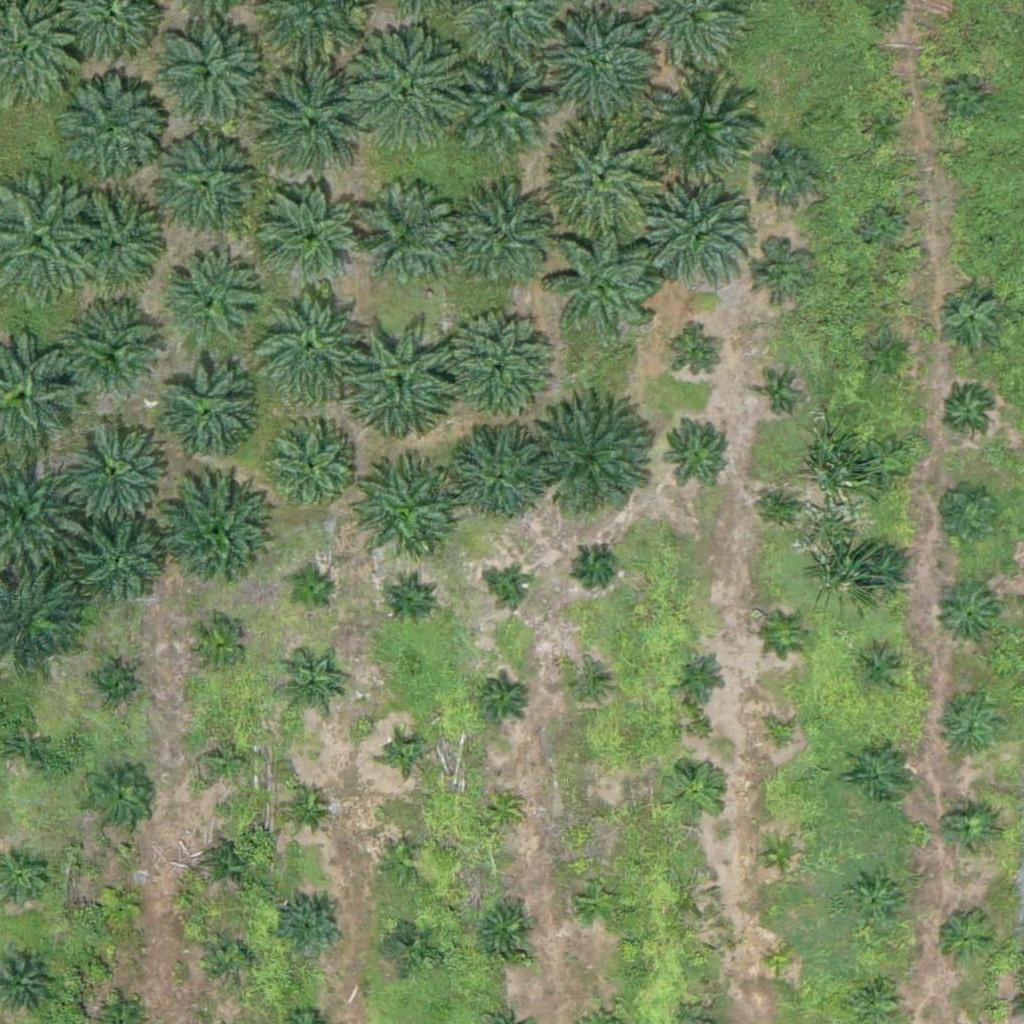Kelapa_Sawit: (44, 67, 169, 193), (146, 17, 271, 143), (251, 63, 376, 189), (534, 10, 659, 136), (646, 78, 771, 204), (340, 317, 465, 443), (248, 283, 373, 409), (347, 30, 472, 155), (536, 398, 661, 523), (157, 479, 270, 593), (548, 225, 661, 338), (437, 311, 550, 424), (58, 409, 170, 523), (645, 185, 757, 298), (549, 120, 661, 233), (346, 461, 458, 574), (447, 422, 547, 523), (453, 187, 553, 288), (352, 186, 452, 287), (262, 189, 362, 290), (261, 416, 361, 517), (150, 136, 250, 237), (162, 252, 262, 353), (64, 185, 164, 286), (154, 361, 254, 461), (67, 300, 167, 400), (76, 520, 164, 608), (457, 69, 544, 158), (928, 478, 1003, 554), (660, 414, 735, 489), (932, 906, 995, 969), (937, 699, 1000, 762), (278, 659, 341, 722), (184, 613, 247, 676), (850, 742, 913, 805), (280, 895, 343, 958), (846, 872, 909, 935), (851, 542, 914, 605), (747, 241, 810, 304), (757, 143, 820, 206), (195, 730, 258, 793), (936, 583, 998, 646), (88, 768, 150, 831), (475, 899, 537, 962), (937, 285, 999, 348), (665, 760, 727, 823), (855, 646, 905, 697), (385, 916, 435, 967), (205, 838, 255, 889), (674, 331, 724, 382), (862, 440, 912, 491), (281, 781, 331, 832), (206, 932, 256, 983), (85, 659, 135, 710), (94, 878, 144, 929), (944, 805, 994, 855), (385, 574, 435, 624), (479, 672, 529, 722), (849, 973, 899, 1023), (944, 387, 994, 437), (675, 651, 725, 701), (575, 876, 625, 926), (378, 836, 428, 886), (286, 569, 336, 619), (769, 616, 807, 654), (576, 544, 614, 582), (862, 207, 900, 245), (866, 109, 904, 147), (869, 333, 907, 371), (762, 717, 800, 755), (760, 836, 798, 874), (762, 943, 800, 981), (484, 790, 522, 828), (387, 735, 425, 773), (493, 570, 530, 608), (948, 83, 985, 121), (570, 668, 607, 706), (582, 797, 619, 835), (760, 378, 797, 415), (764, 488, 801, 525), (979, 233, 1004, 258)
